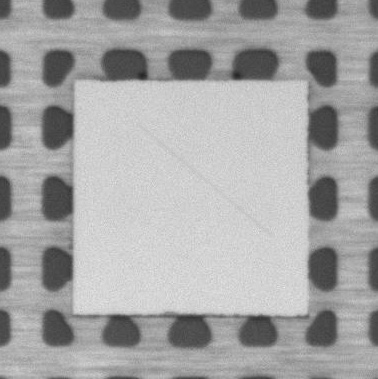DIE_CRACK: (139, 125, 273, 238)
